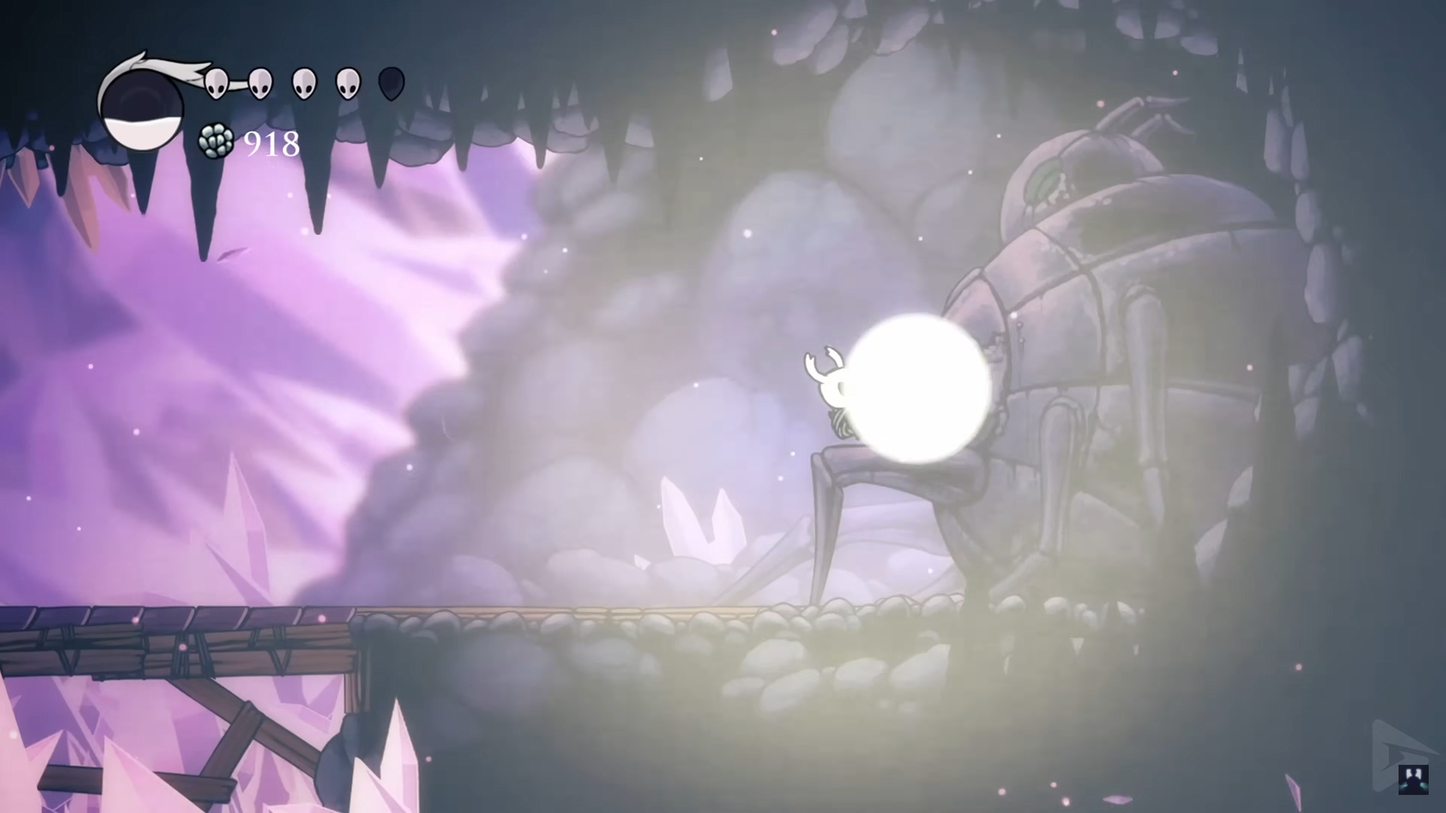HK: (795, 341, 855, 438)
